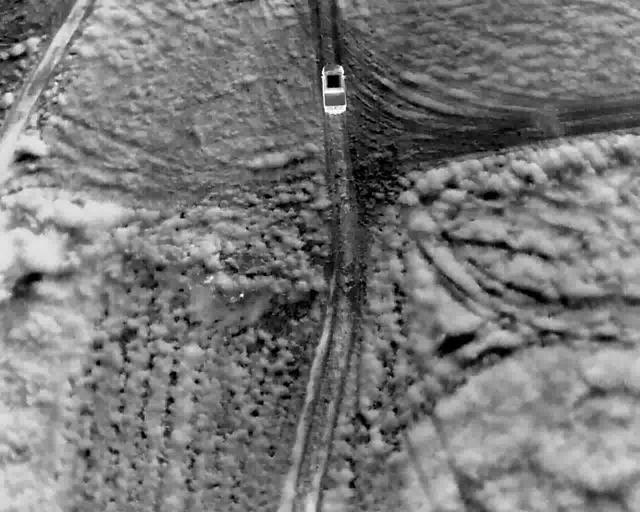car: (321, 63, 346, 116)
